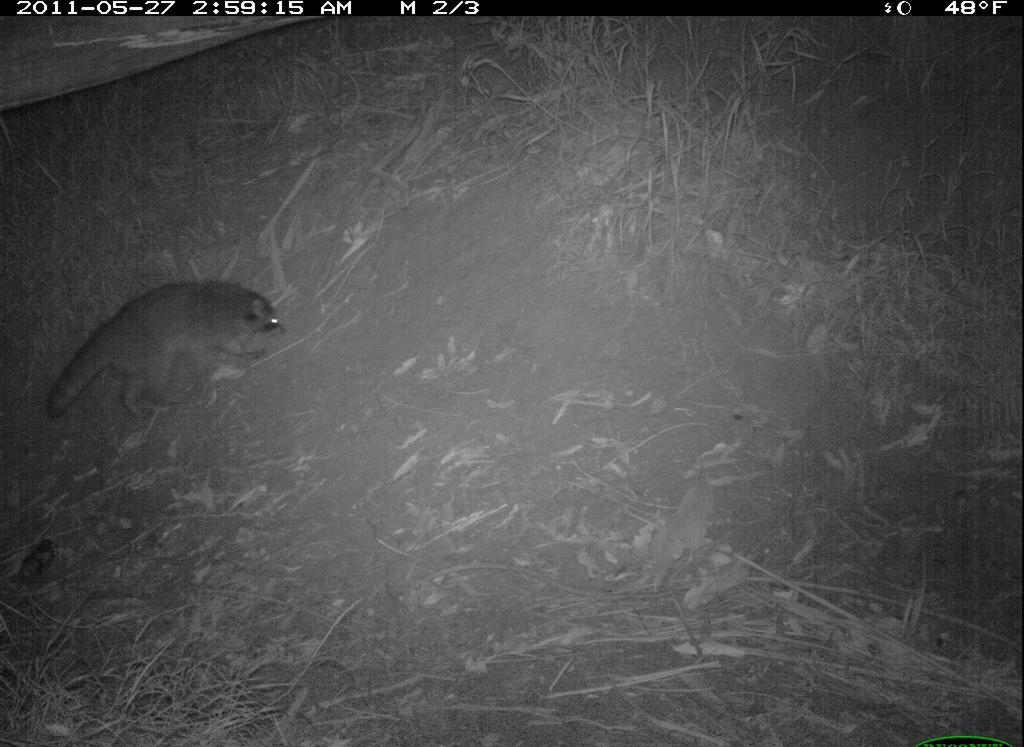raccoon: (33, 273, 292, 429)
